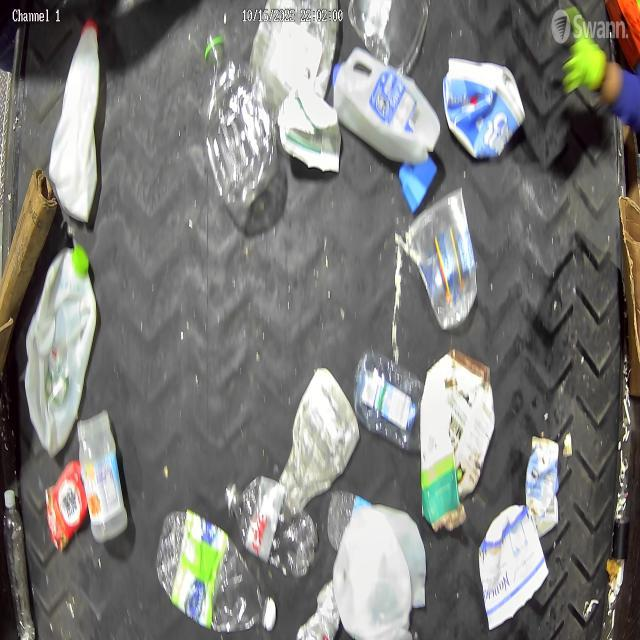can: (44, 459, 88, 556)
milk_jug: (22, 238, 100, 464), (330, 45, 442, 164), (332, 502, 417, 640), (50, 17, 103, 228), (353, 348, 426, 457)
plastic_bottle: (155, 508, 278, 635), (202, 30, 278, 215), (222, 470, 322, 582), (2, 486, 37, 640), (326, 486, 364, 550)
